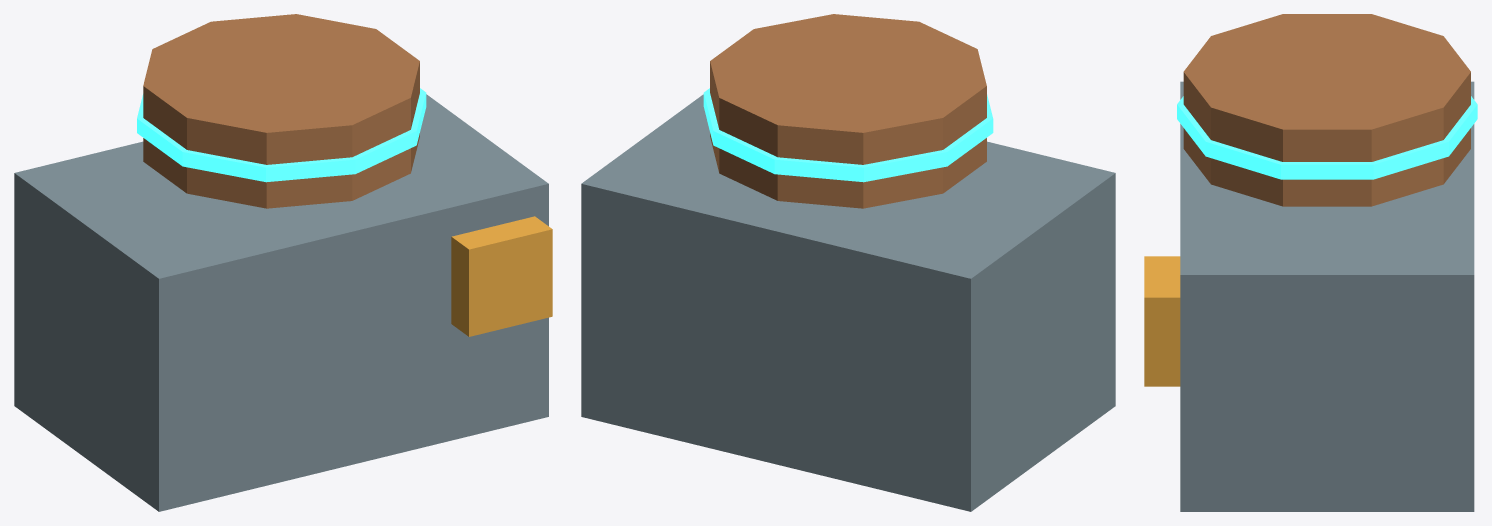
The model's file is Field_Generator.glb.
The picture shows the model from 3 angles, left to right: view 1: azimuth 30°, elevation 25°; view 2: azimuth 150°, elevation 25°; view 3: azimuth 270°, elevation 25°; orthographic projection.
Parts seen in each view (by area): view 1: Field_Generator; view 2: Field_Generator; view 3: Field_Generator.
Part boxes in pixels (left/top/right/bottom): Field_Generator: left=14, top=14, right=552, bottom=511; Field_Generator: left=581, top=14, right=1115, bottom=511; Field_Generator: left=1144, top=14, right=1477, bottom=511.
Size of the model in its own units: 1.4 by 1.16 by 1.02.
